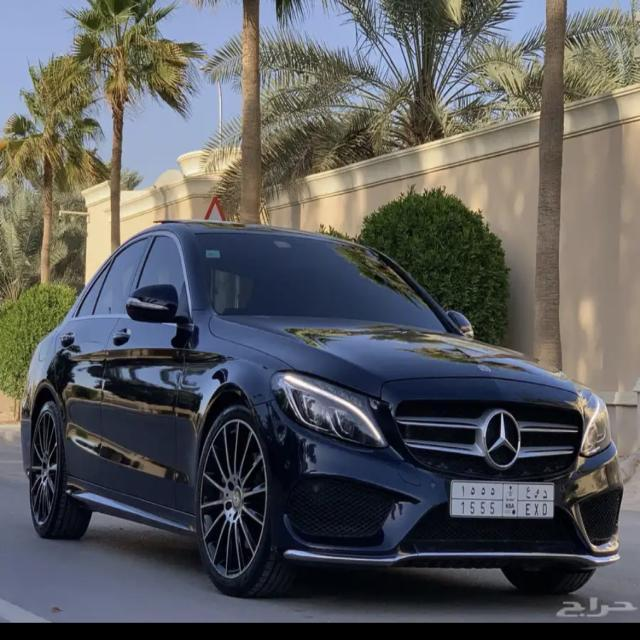license_plate: (454, 482, 555, 520)
